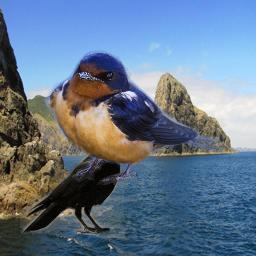Crow: (20, 129, 139, 238)
Swallow: (44, 50, 221, 185)
